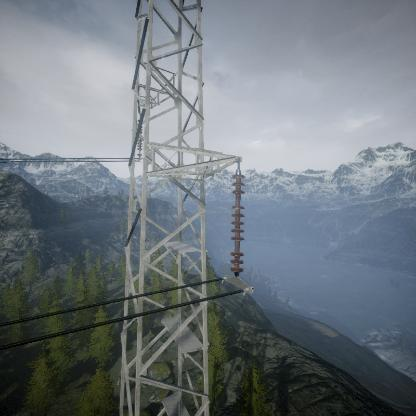insulator: (230, 169, 246, 277)
